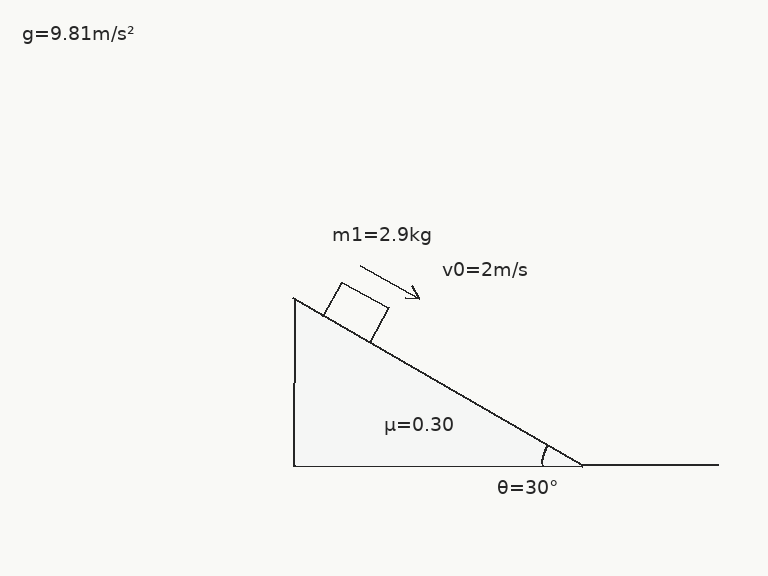block: (321, 279, 390, 344)
ramp: (292, 296, 584, 467)
